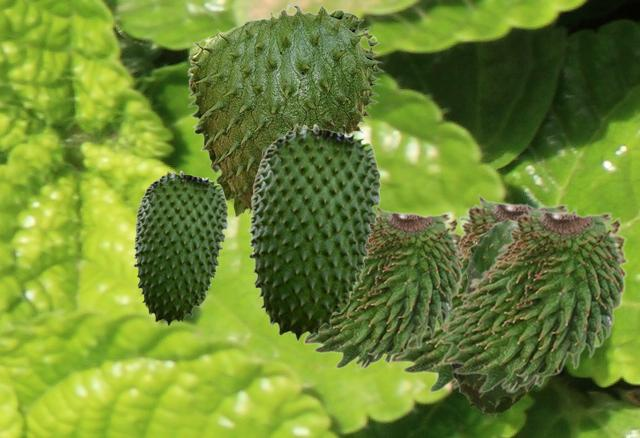guyabano: (187, 3, 384, 218), (390, 193, 579, 392), (438, 202, 628, 392), (248, 123, 380, 340), (302, 206, 464, 368), (450, 217, 536, 416), (133, 170, 227, 325)
